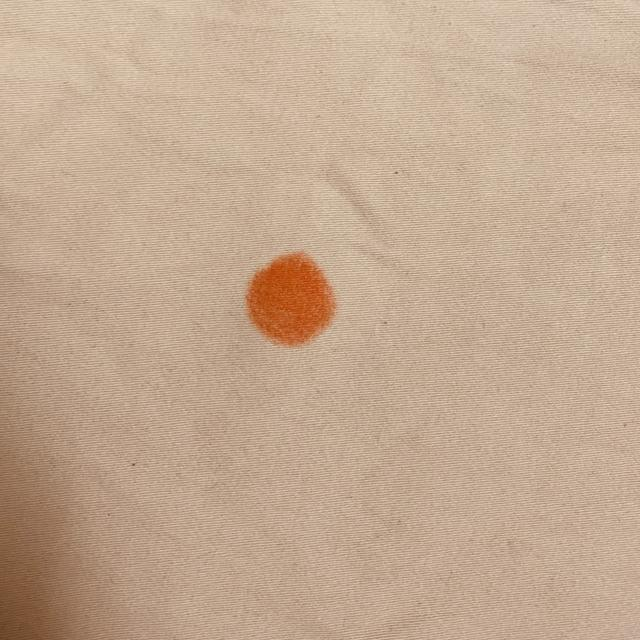Stain: (247, 253, 336, 346)
